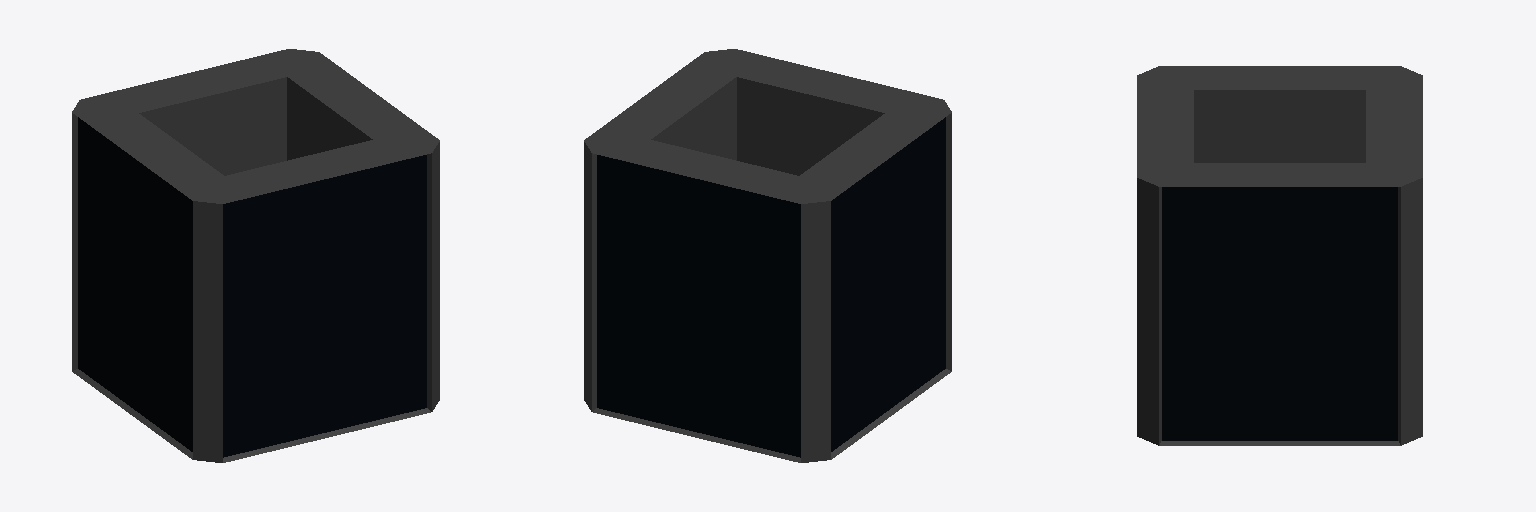
Rendered from stop_stationary.obj.
3 views of the same model, side by side, from view 1: azimuth 30°, elevation 25°; view 2: azimuth 150°, elevation 25°; view 3: azimuth 270°, elevation 25° (orthographic).
Parts seen in each view (by area): view 1: Cube.003_Cube.004; view 2: Cube.003_Cube.004; view 3: Cube.003_Cube.004.
Part boxes in pixels (left/top/right/bottom): Cube.003_Cube.004: left=72, top=49, right=439, bottom=462; Cube.003_Cube.004: left=584, top=49, right=951, bottom=462; Cube.003_Cube.004: left=1137, top=66, right=1422, bottom=445.
Size of the model in its own units: 1 by 1 by 1.